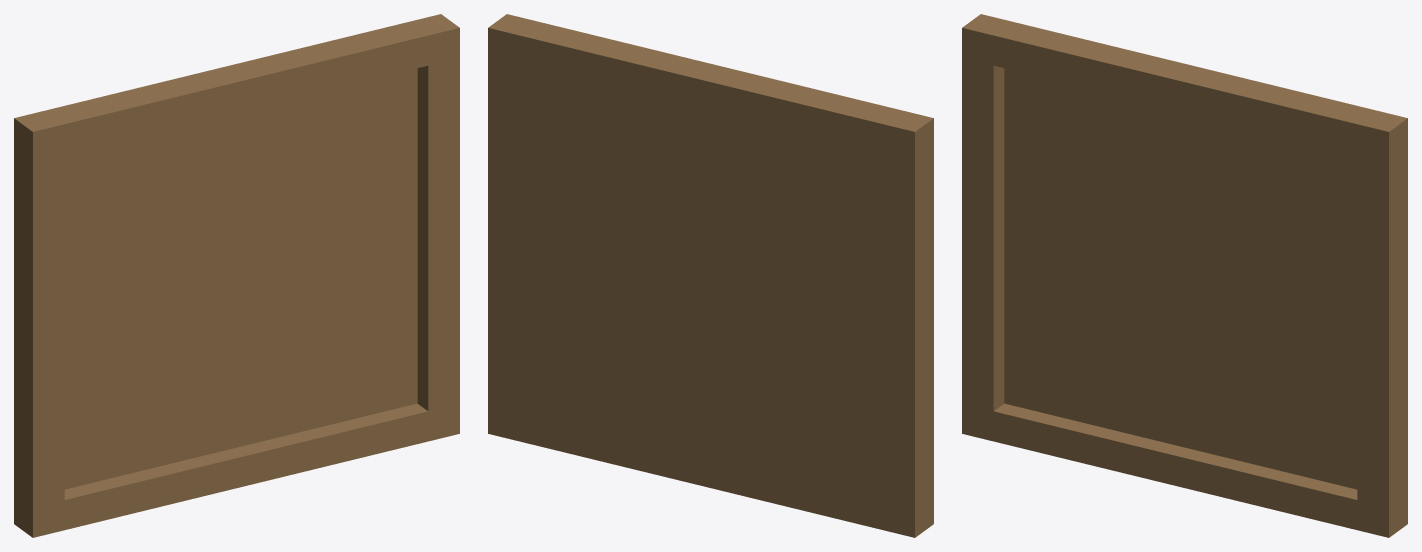
Rendered from SM_puerta.fbx.
The picture shows the model from 3 angles, left to right: view 1: azimuth 30°, elevation 25°; view 2: azimuth 150°, elevation 25°; view 3: azimuth 330°, elevation 25°; orthographic projection.
Parts seen in each view (by area): view 1: SM_puerta; view 2: SM_puerta; view 3: SM_puerta.
Part boxes in pixels (left/top/right/bottom): SM_puerta: left=14, top=14, right=459, bottom=537; SM_puerta: left=488, top=14, right=933, bottom=537; SM_puerta: left=962, top=14, right=1407, bottom=537.
Size of the model in its own units: 282 by 256 by 21.56.
